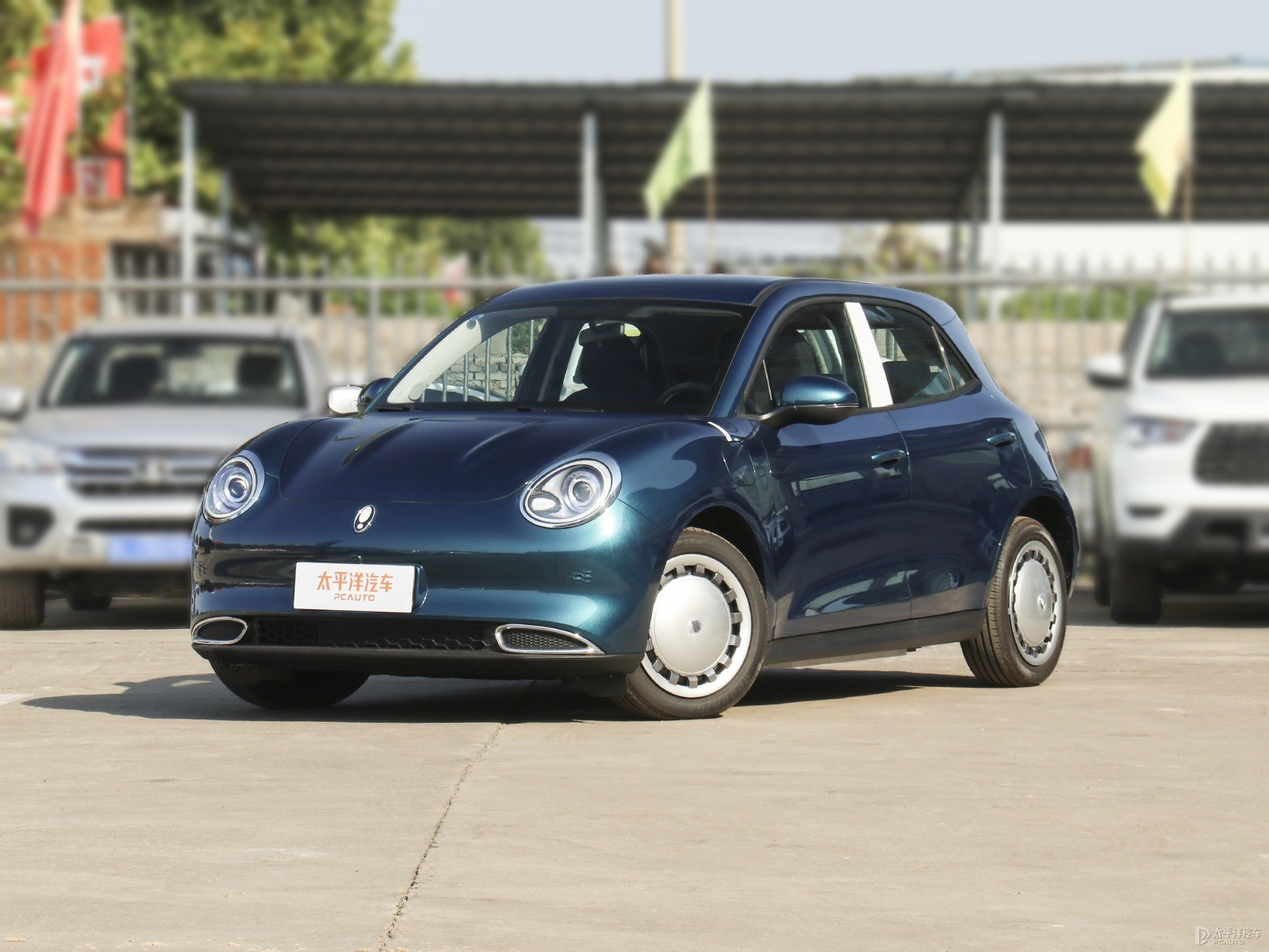ORA: (355, 505, 375, 532)
